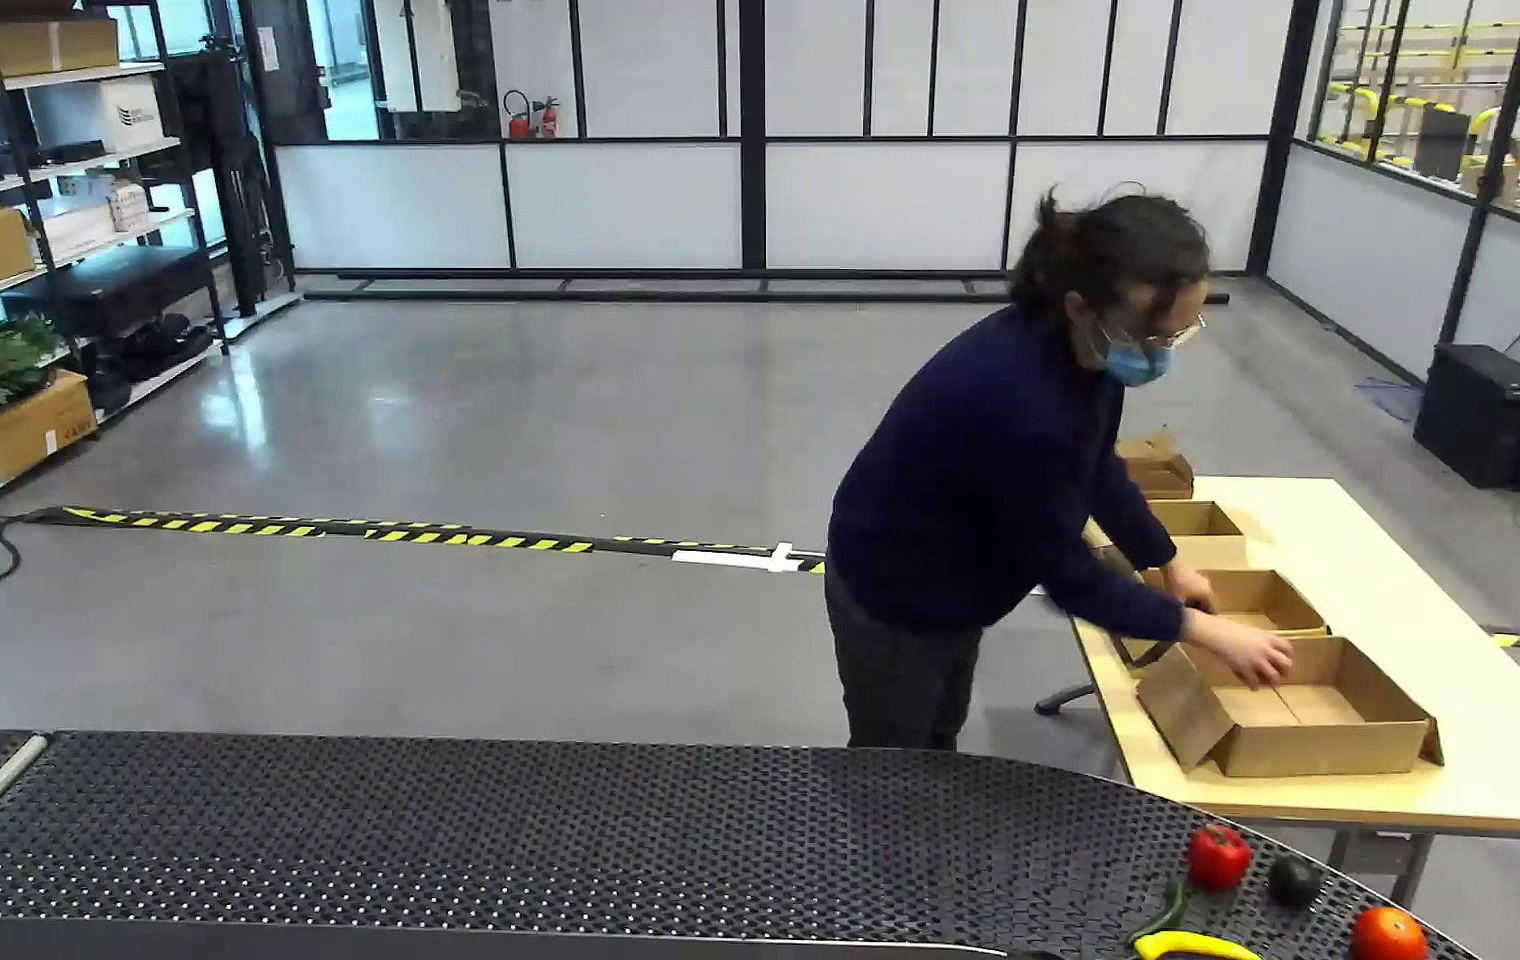Main droite: (1020, 677, 1118, 778)
